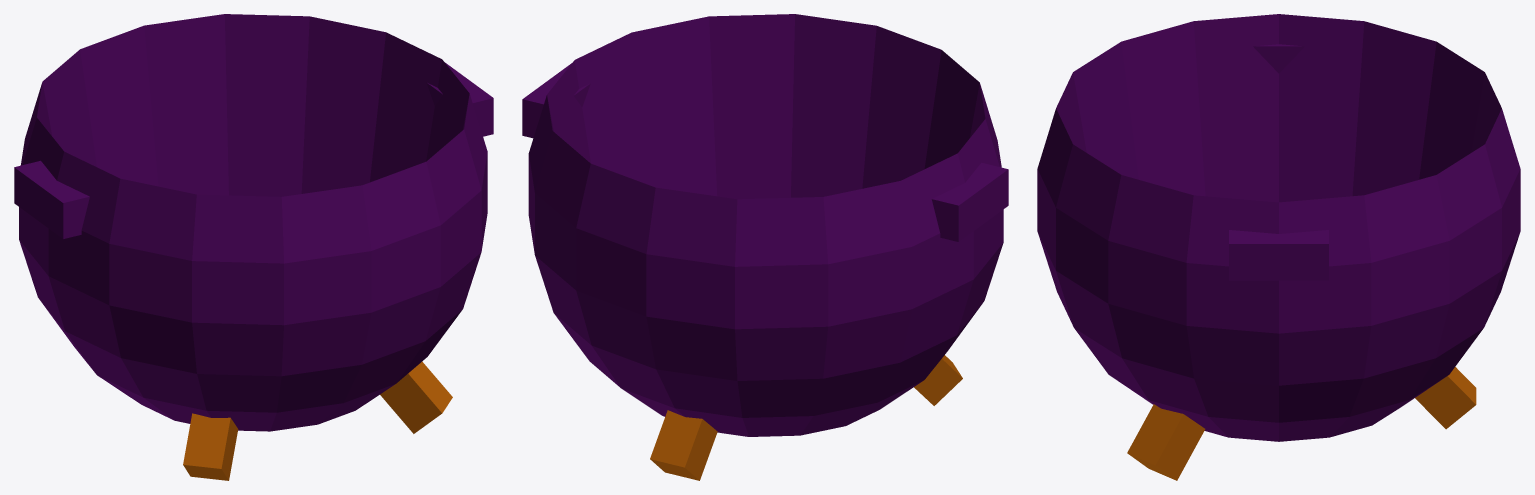
The model's file is brewing_pot.fbx.
3 renders of one model, left to right at view 1: azimuth 30°, elevation 25°; view 2: azimuth 150°, elevation 25°; view 3: azimuth 270°, elevation 25°, orthographic. The views are drawn at different scales.
Parts seen in each view (by area): view 1: Sphere; view 2: Sphere; view 3: Sphere.
Boxes of the visible parts, x1,y1,x2,y2 form: Sphere: (14, 14, 493, 480); Sphere: (522, 14, 1008, 480); Sphere: (1037, 14, 1520, 480).
Bounding box in the file's own units: 356 × 242 × 339.
